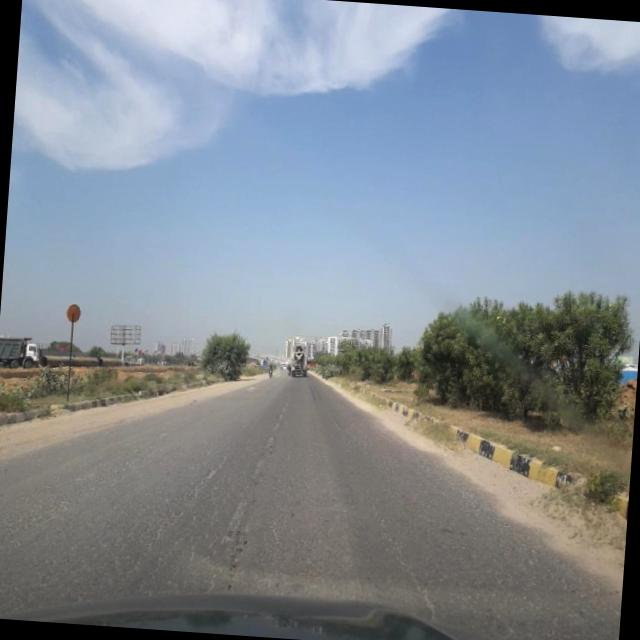crack: (0, 443, 563, 622)
pothole: (369, 499, 446, 602), (154, 448, 230, 552)
